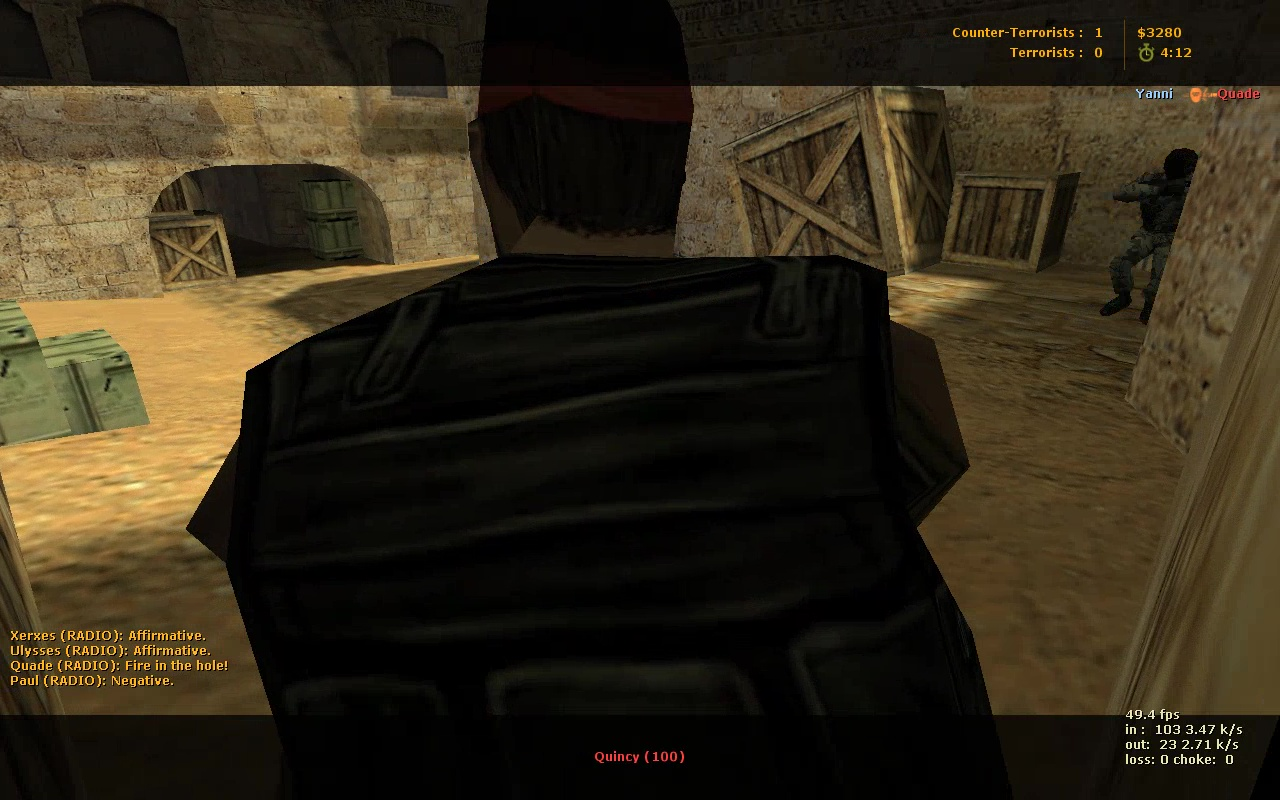terr2: (1101, 146, 1200, 333)
